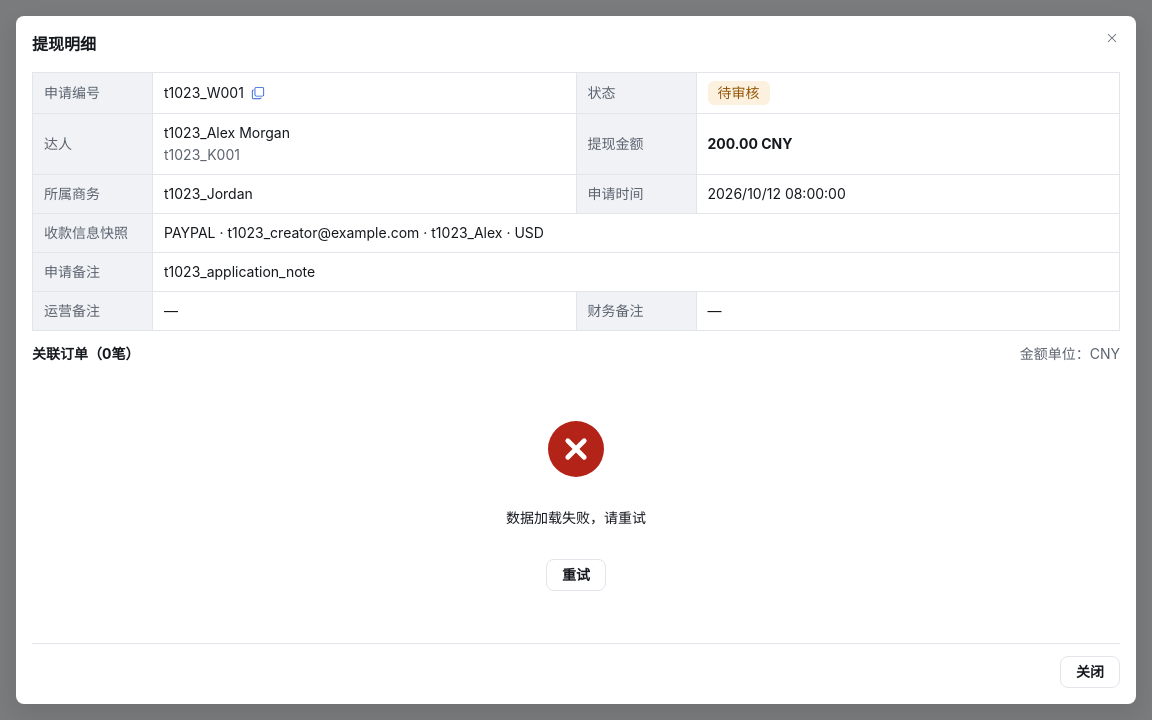
Test: financial drawers and payment registration › retries a failed order page without losing the application information
Expected: the element with class "withdrawal-info" shows "t1023_W001", top-left (164, 84), bottom-right (244, 101)
Click the button with test id "withdrawal-orders-retry" at (576, 575), box top-left (546, 559), bottom-right (606, 591)
(page scrolled)
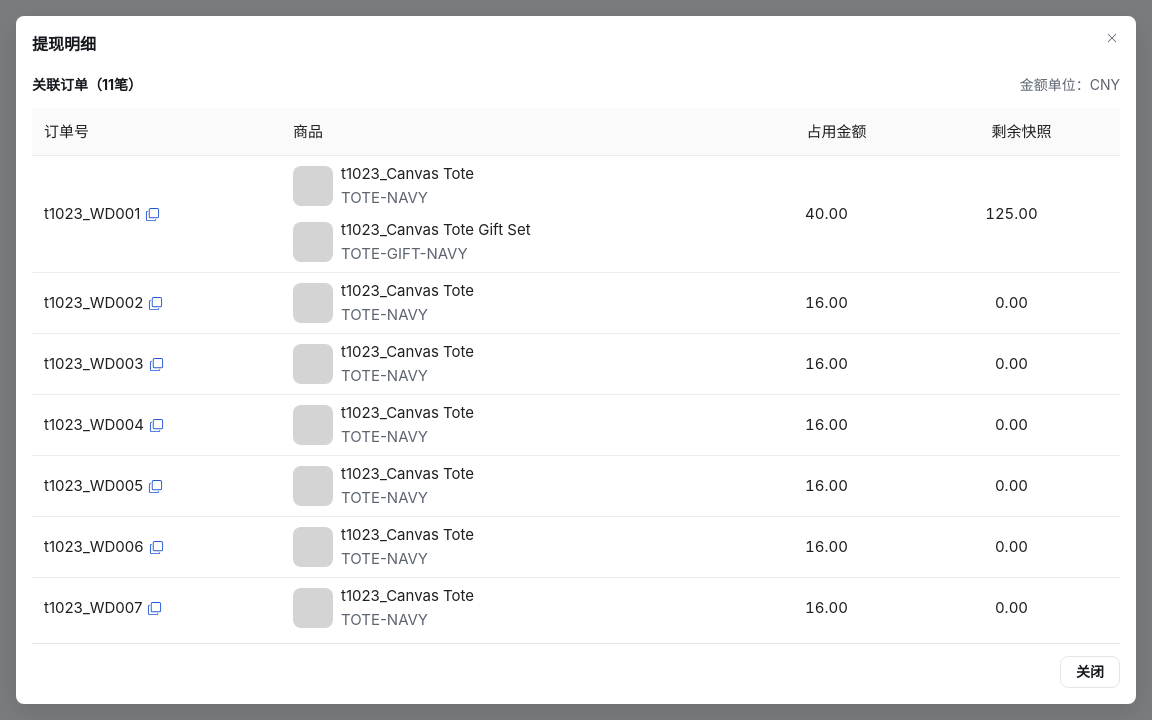
Expected: the button with test id "withdrawal-orders-retry" is gone
